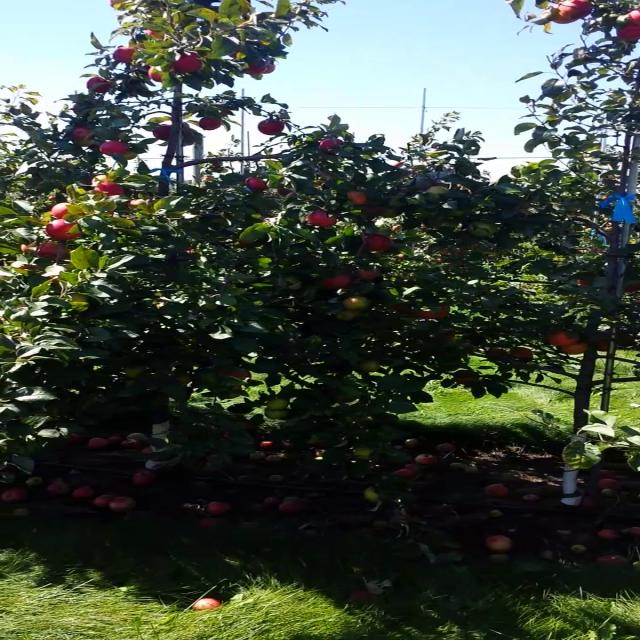apple: (45, 218, 83, 240), (549, 2, 583, 24), (170, 51, 202, 73), (37, 240, 70, 257), (546, 329, 580, 345), (307, 209, 337, 227), (417, 302, 450, 318), (466, 220, 498, 236), (565, 0, 593, 17), (364, 232, 389, 250), (98, 140, 126, 156), (94, 182, 125, 196), (322, 274, 353, 288), (452, 369, 480, 384), (258, 118, 284, 134), (317, 137, 343, 153), (616, 23, 639, 41), (86, 77, 110, 93), (112, 46, 135, 62), (558, 342, 588, 354), (343, 296, 368, 310), (374, 206, 403, 218), (353, 267, 379, 280), (150, 124, 171, 140), (244, 176, 268, 190), (345, 190, 367, 205), (51, 202, 71, 218), (353, 444, 373, 460), (198, 116, 220, 130), (508, 346, 532, 358), (264, 398, 288, 410), (363, 487, 381, 503), (243, 61, 265, 74), (124, 364, 144, 378), (334, 310, 360, 320), (148, 66, 164, 82), (263, 408, 288, 418), (358, 360, 380, 371), (260, 59, 276, 74), (71, 136, 93, 146), (486, 348, 508, 358), (127, 198, 145, 210), (238, 238, 259, 248), (225, 370, 251, 378), (276, 187, 296, 197), (438, 329, 458, 339), (628, 6, 639, 24), (19, 241, 37, 252), (120, 149, 138, 159), (621, 283, 639, 293), (90, 173, 106, 184), (427, 185, 449, 193), (146, 28, 163, 38), (72, 127, 89, 137), (68, 293, 88, 301), (107, 0, 125, 8), (368, 204, 386, 212), (596, 340, 608, 351), (449, 208, 465, 216), (180, 374, 192, 384), (16, 264, 38, 269), (226, 50, 238, 58), (230, 384, 243, 390), (227, 392, 240, 398), (576, 279, 588, 285)
